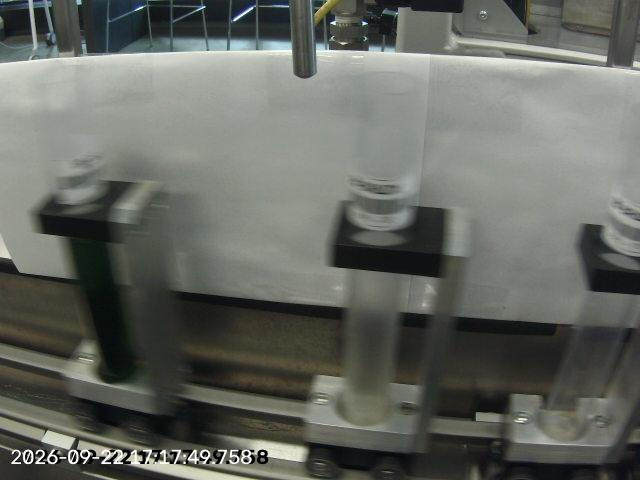vial: (31, 69, 153, 382), (337, 68, 423, 425)
